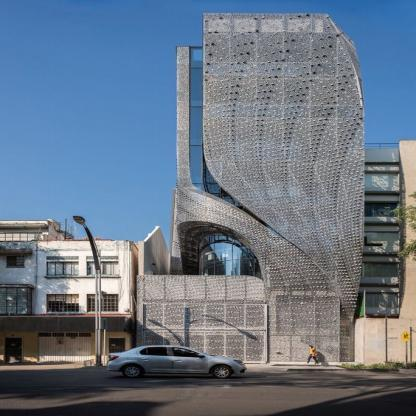Building Outline: (134, 12, 366, 364)
Facade: (134, 13, 365, 365)
Glass Wall: (191, 49, 337, 208), (195, 233, 265, 357)
